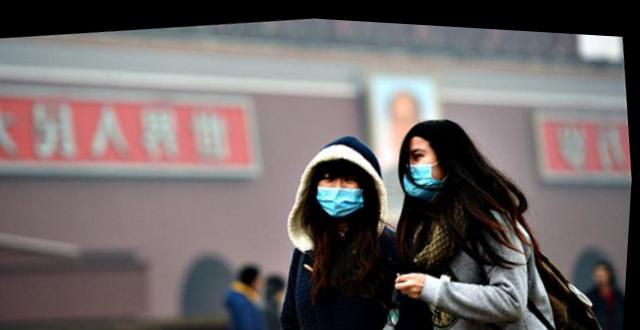OK: (391, 140, 450, 198)
WRONG: (313, 158, 368, 213)
